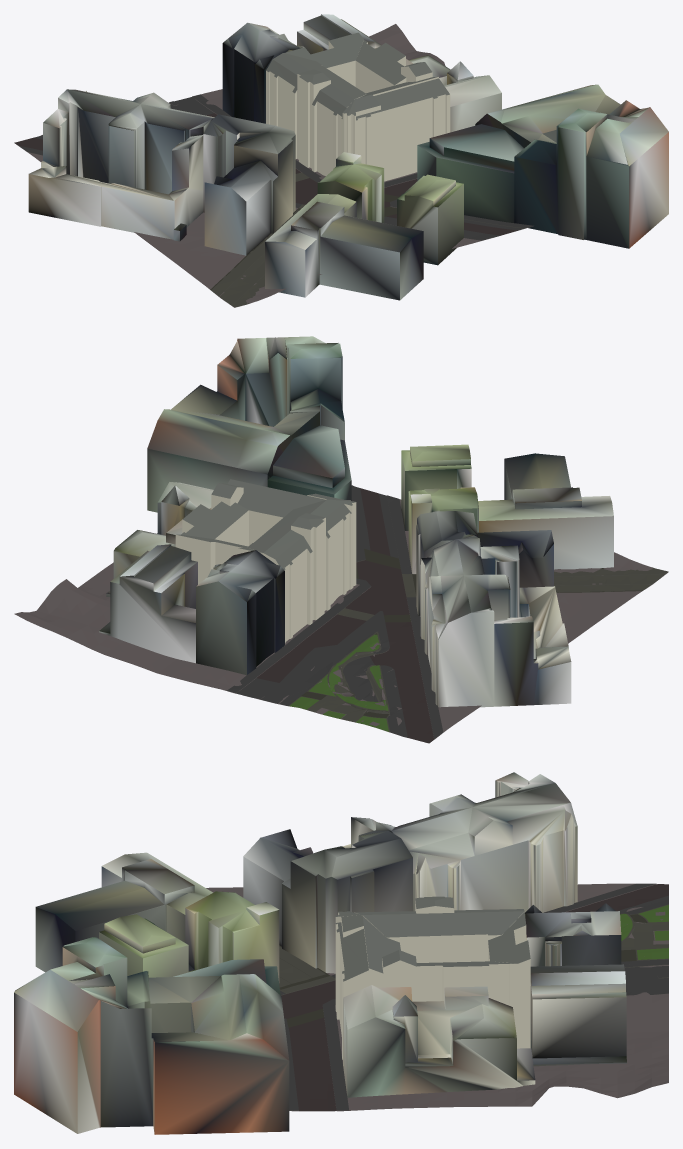
3 renders of one model, top to bottom at view 1: azimuth 30°, elevation 25°; view 2: azimuth 150°, elevation 25°; view 3: azimuth 270°, elevation 25°, orthographic. The views are drawn at different scales.
Parts seen in each view (by area): view 1: c_m04_p04; view 2: c_m04_p04; view 3: c_m04_p04.
Boxes of the visible parts, left/top/right/bottom form: c_m04_p04: left=14, top=14, right=668, bottom=307; c_m04_p04: left=14, top=336, right=668, bottom=743; c_m04_p04: left=14, top=772, right=668, bottom=1134.
Size of the model in its own units: 159 by 38.88 by 153.
